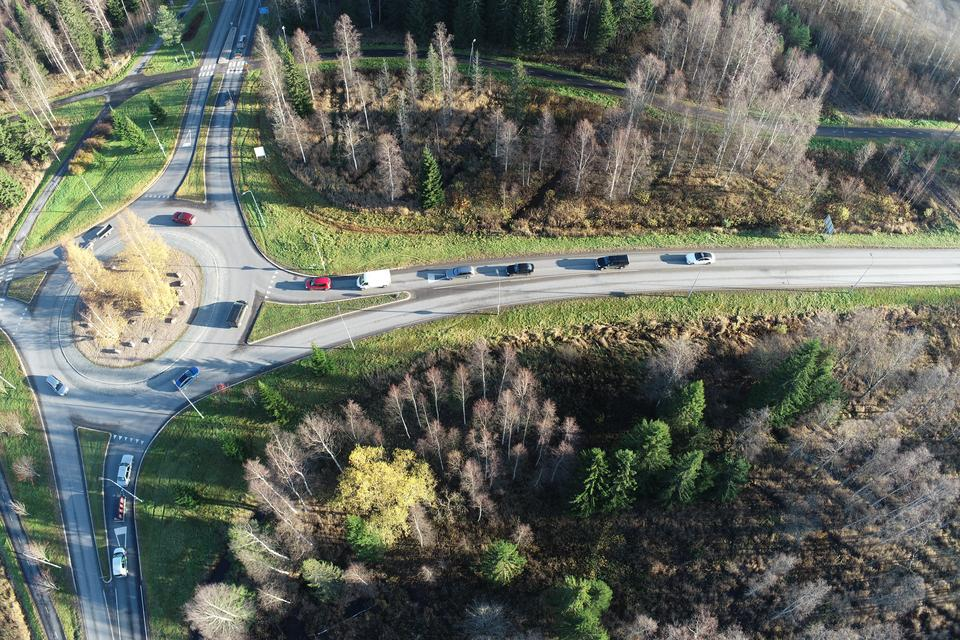intersection: (175, 46, 276, 91)
roundabout: (0, 161, 336, 480)
